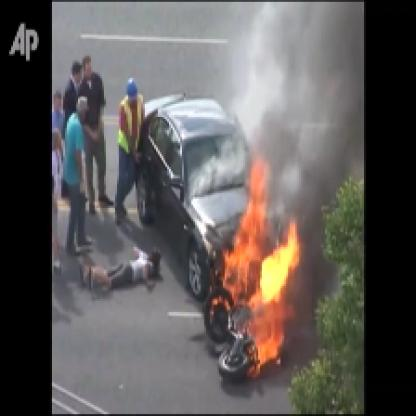Fire: (202, 141, 301, 377)
Smoke: (255, 2, 362, 163)
